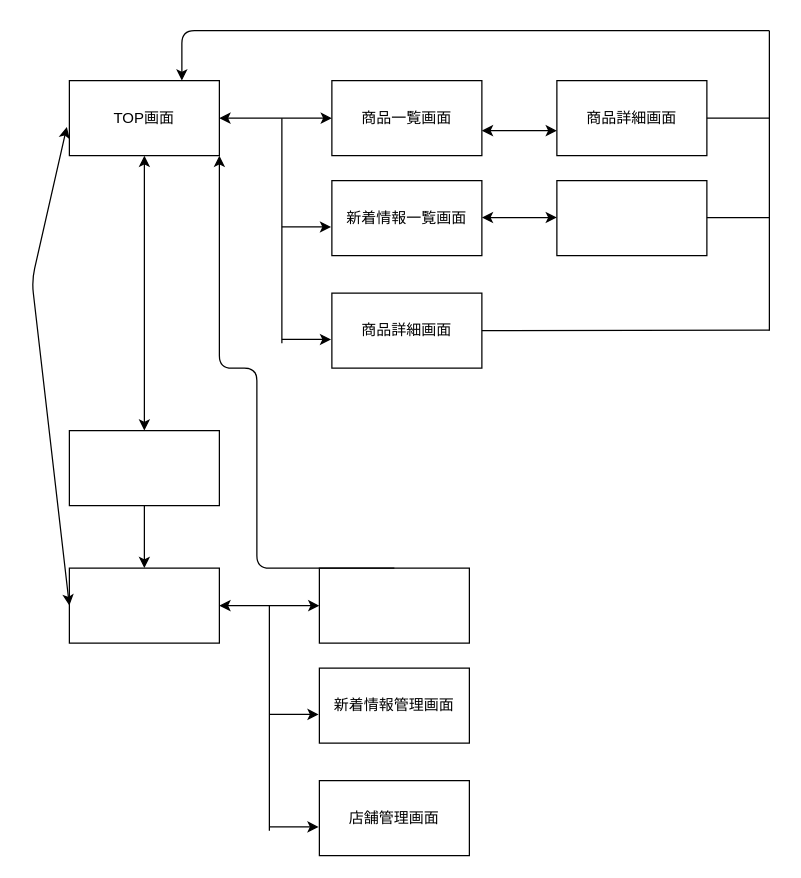
The diagram is 801 pixels wide and 878 high, and some of its shapes have lost their labels. The box of each missing label's shape, as (x1, y1, x2, y2) in pixels:
ログイン画面: (68, 429, 219, 506)
商品管理画面: (318, 567, 469, 643)
新着情報詳細画面: (556, 179, 707, 256)
管理ページ: (68, 567, 219, 643)
